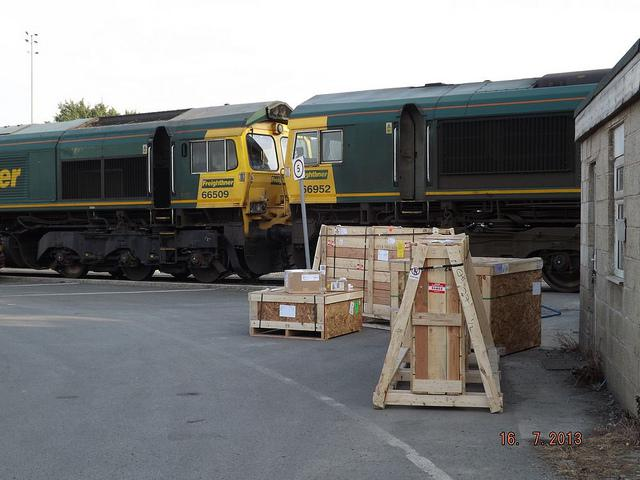Train: (2, 70, 601, 280)
